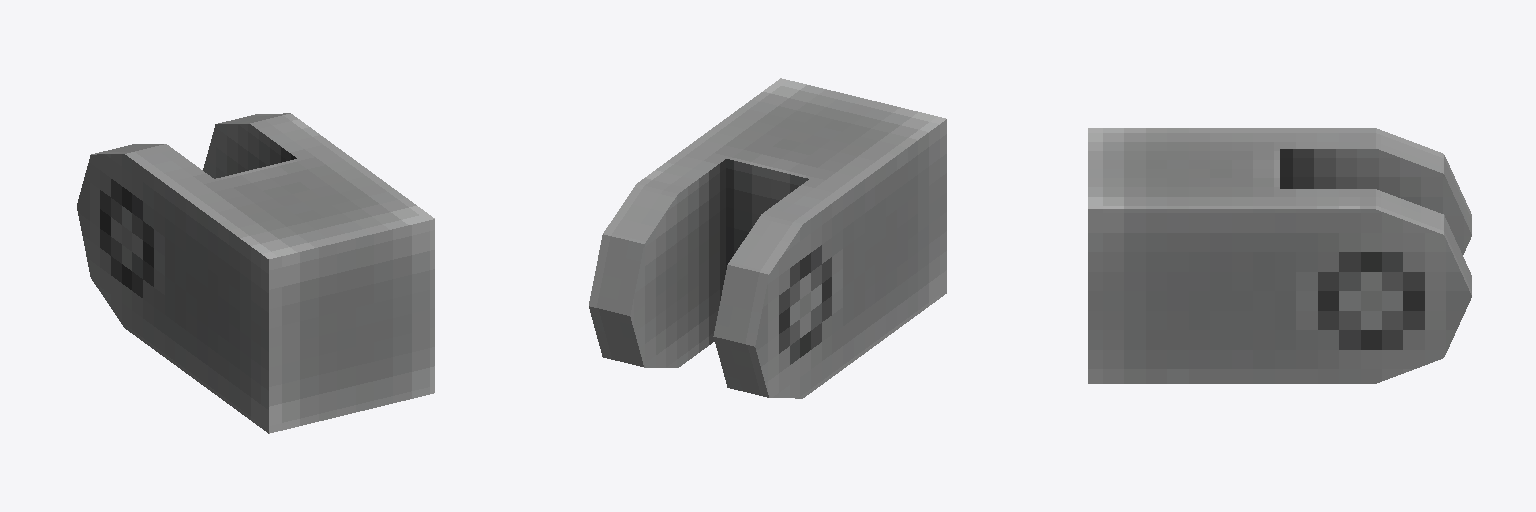
3 renders of one model, left to right at view 1: azimuth 30°, elevation 25°; view 2: azimuth 150°, elevation 25°; view 3: azimuth 270°, elevation 25°, orthographic.
Visible parts, largest first — view 1: atria_antenna_2_base_2; view 2: atria_antenna_2_base_2; view 3: atria_antenna_2_base_2.
Boxes of the visible parts, box(x1,y1,x2,y2) form: atria_antenna_2_base_2: box(77, 113, 434, 433); atria_antenna_2_base_2: box(589, 78, 946, 398); atria_antenna_2_base_2: box(1088, 128, 1471, 383).
Bounding box in the file's own units: 0.05 × 0.05 × 0.1.
1 materials, 1 textured.